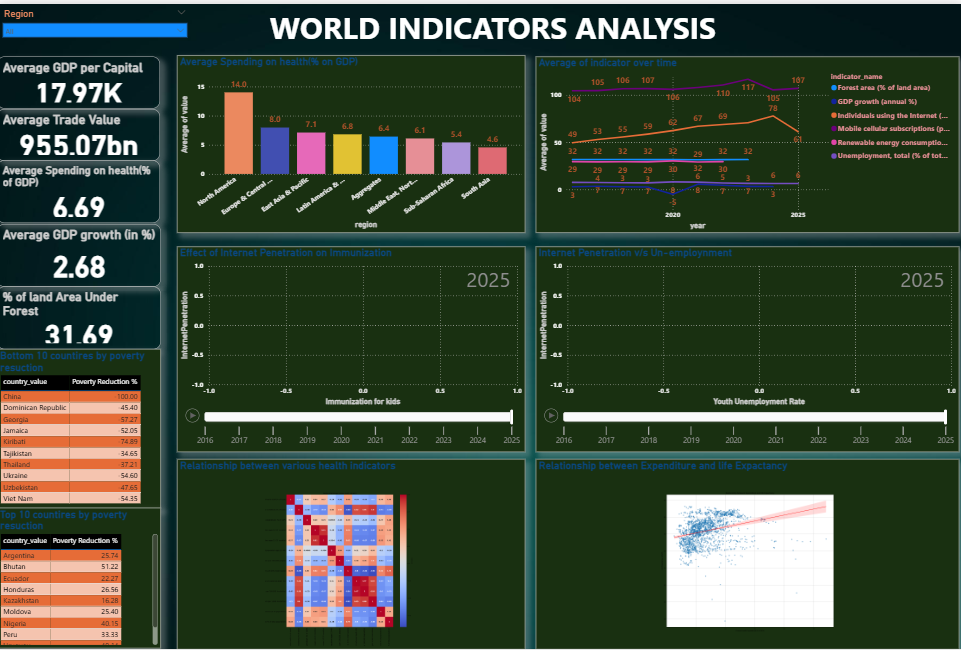

This screenshot's page, from the dashboard's own definition file:
{"tool":"powerbi","page":{"name":"Page 1","canvas":[1800,1200],"ordinal":0},"visuals":[{"type":"textbox","box":[503.1,0,891.6,98.2],"z":0},{"type":"card","title":"Average GDP per Capital","fields":{"Values":["Avg(economic_activity.value)"]},"box":[0,98.3,303.3,96.7],"z":1000},{"type":"card","title":"Average Trade Value","fields":{"Values":["Avg(trade_globalization.value)"]},"box":[0,195,303.3,96.7],"z":2000},{"type":"card","title":"Average Spending on health(% of GDP) ","fields":{"Values":["Avg(health_indicators.value)"]},"box":[0,291.7,303.3,116.7],"z":3000},{"type":"card","title":"Average GDP growth (in %)","fields":{"Values":["Avg(economic_activity.value)"]},"box":[0,408.3,305,116.7],"z":4000},{"type":"card","title":"% of land Area Under Forest","fields":{"Values":["Avg(environmental_indicators.value)"]},"box":[0,525,305,116.7],"z":5000},{"type":"slicer","fields":{"Values":["economic_activity.region"]},"box":[0,2,364,94.1],"z":6000},{"type":"clusteredColumnChart","title":"Average Spending on health(% on GDP)","fields":{"Category":["health_indicators.region"],"Y":["Avg(health_indicators.value)"]},"box":[334,96,648,330],"z":7000},{"type":"lineChart","title":"Average of indicator over time ","fields":{"Category":["line chart.year"],"Y":["Avg(line chart.value)"],"Series":["line chart.indicator_name"]},"box":[1002,98,788,328],"z":8000},{"type":"scatterChart","title":"Effect of Internet Penetration on Immunization","fields":{"X":["Measure Table.Immunization for kids"],"Y":["Measure Table.InternetPenetration"],"Category":["Scatter plot.year"],"Play":["Scatter plot.year"],"Size":["Measure Table.GDPPerCapita"]},"box":[334,452,648,382],"z":9000},{"type":"scatterChart","title":"Internet Penetration v/s Un-employnment","fields":{"X":["Scatter plot.Youth Unemployment Rate"],"Y":["Measure Table.InternetPenetration"],"Play":["Scatter plot.year"],"Category":["Scatter plot.value"],"Size":["Measure Table.GDPPerCapita"]},"box":[1002,452,788,382],"z":10000},{"type":"tableEx","title":"Bottom 10 countires by poverty resuction ","fields":{"Values":["poverty_inequality.country_value","Measure Table.Poverty Reduction %"]},"box":[0,641.7,305,296.7],"z":11000},{"type":"tableEx","title":"Top 10 countires by poverty resuction ","fields":{"Values":["poverty_inequality.country_value","Measure Table.Poverty Reduction %"]},"box":[0,938.3,305,261.7],"z":12000},{"type":"pythonVisual","title":"Relationship between various health indicators","fields":{"Values":["health_indicators.country_value","health_indicators.year","health_indicators.indicator_name","health_indicators.value"]},"box":[334,846,648,354],"z":13000},{"type":"pythonVisual","title":"Relationship between Expenditure and life Expactancy","fields":{"Values":["health_indicators.country_value","health_indicators.indicator_name","health_indicators.value","health_indicators.year"]},"box":[1002,846,788,354],"z":14000}]}

Visuals, with their boxes in screenshot pixels (x1, y1, x2, y2), scaled from the page's 1800x1200 canvas onto the 961x650 screenshot:
textbox: bbox=(269, 0, 745, 53)
"Average GDP per Capital" card: bbox=(0, 53, 162, 106)
"Average Trade Value" card: bbox=(0, 106, 162, 158)
"Average Spending on health(% of GDP) " card: bbox=(0, 158, 162, 221)
"Average GDP growth (in %)" card: bbox=(0, 221, 163, 284)
"% of land Area Under Forest" card: bbox=(0, 284, 163, 348)
slicer - economic_activity.region: bbox=(0, 1, 194, 52)
"Average Spending on health(% on GDP)" clusteredColumnChart: bbox=(178, 52, 524, 231)
"Average of indicator over time " lineChart: bbox=(535, 53, 956, 231)
"Effect of Internet Penetration on Immunization" scatterChart: bbox=(178, 245, 524, 452)
"Internet Penetration v/s Un-employnment" scatterChart: bbox=(535, 245, 956, 452)
"Bottom 10 countires by poverty resuction " tableEx: bbox=(0, 348, 163, 508)
"Top 10 countires by poverty resuction " tableEx: bbox=(0, 508, 163, 649)
"Relationship between various health indicators" pythonVisual: bbox=(178, 458, 524, 649)
"Relationship between Expenditure and life Expactancy" pythonVisual: bbox=(535, 458, 956, 649)
